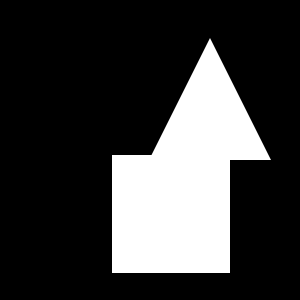circle: (112, 155, 230, 273)
triangle: (149, 38, 271, 160)
